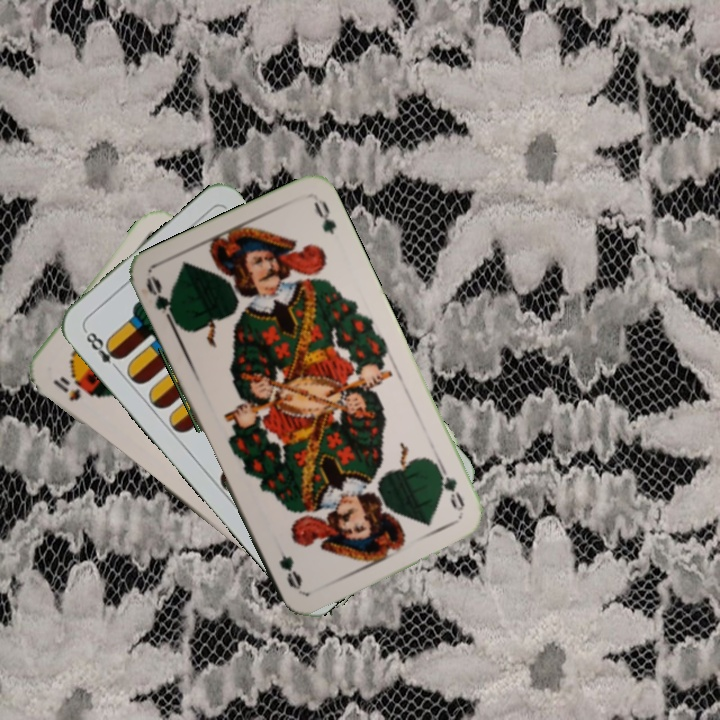E8: (80, 325, 125, 375)
GO: (142, 273, 181, 330), (432, 459, 468, 514)
SO: (48, 372, 95, 404)
